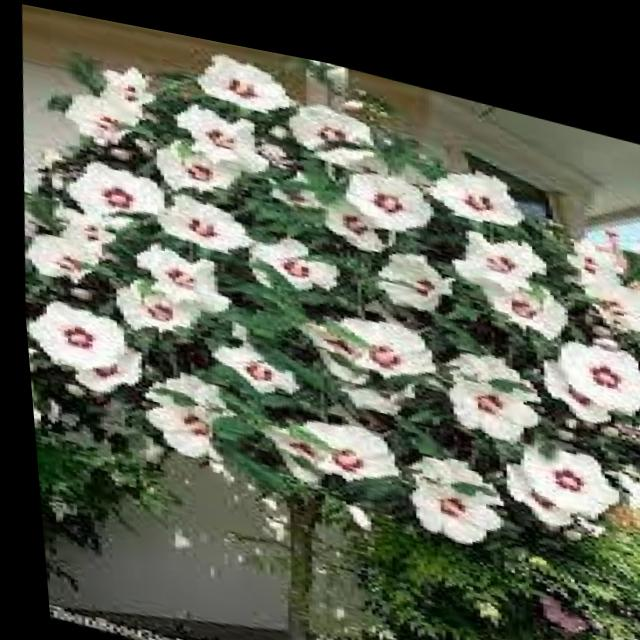Flower: (428, 321, 555, 435), (389, 422, 511, 537), (302, 303, 421, 409), (271, 389, 400, 486), (499, 414, 613, 506), (46, 138, 157, 228), (272, 81, 388, 166), (132, 230, 248, 315), (134, 365, 223, 471), (548, 298, 640, 397), (424, 137, 526, 214), (188, 31, 287, 109), (147, 184, 259, 251), (24, 287, 114, 370), (372, 225, 461, 307), (243, 218, 338, 294), (185, 92, 274, 173), (305, 173, 399, 246), (475, 248, 572, 317), (346, 151, 438, 223), (443, 321, 528, 396), (445, 211, 540, 277), (210, 317, 288, 396), (556, 193, 629, 277), (60, 324, 141, 394), (47, 197, 116, 278), (152, 121, 236, 187), (353, 304, 427, 373), (118, 262, 185, 332), (32, 225, 99, 294), (66, 86, 133, 146), (583, 249, 640, 316), (94, 57, 159, 112)
